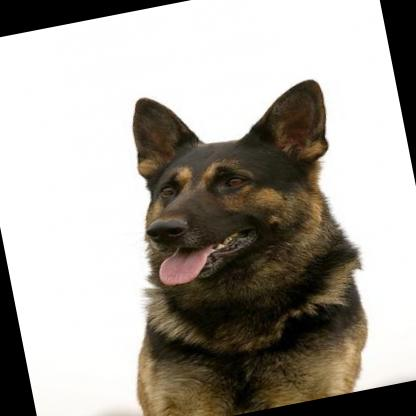German_shepherd: (81, 62, 384, 416)
